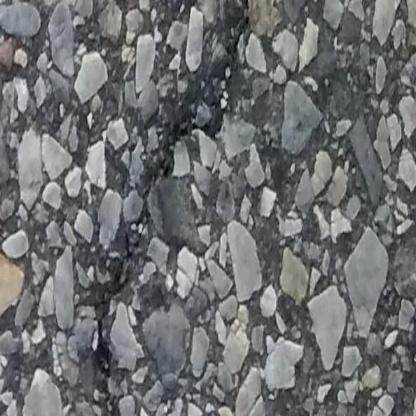Cracks: (90, 0, 262, 416)
